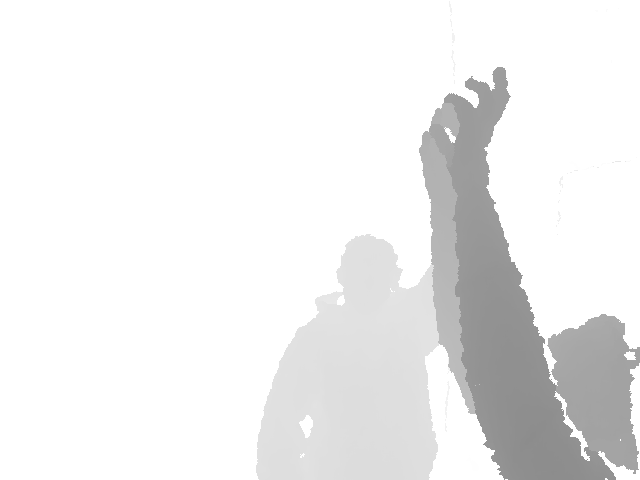hand: (428, 66, 510, 186), (419, 102, 480, 195)
head: (548, 313, 640, 472), (334, 234, 403, 313)
person: (419, 66, 640, 480), (255, 234, 443, 480)
